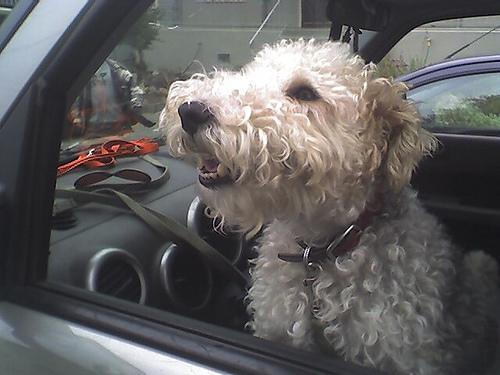wire-haired_fox_terrier: (156, 38, 476, 373)
